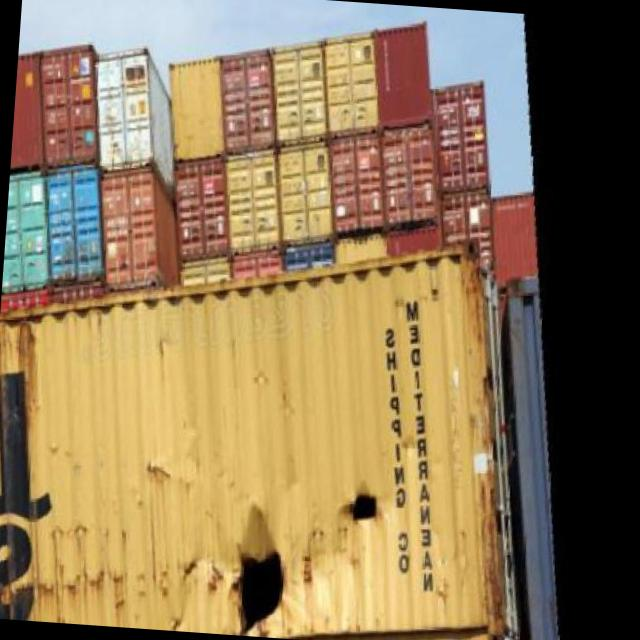Hole: (195, 529, 302, 635), (314, 459, 408, 562)
Rust: (3, 532, 195, 624)
